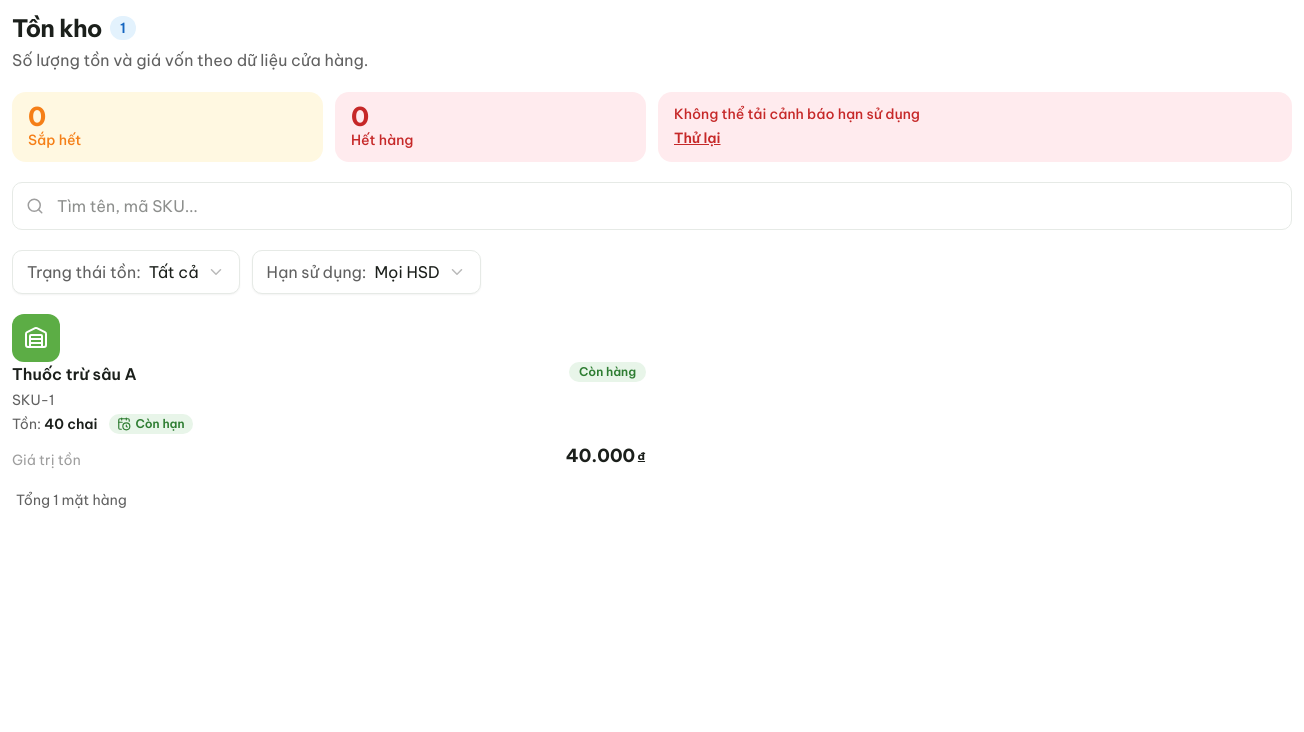
Test: InventoryList expiry tiers › shows a retry action for the expiry tiles when the summary request fails
Check: the message shows "Không thể tải cảnh báo hạn sử dụng", box [674,105,920,123]
Check: the button "Còn dưới 30 ngày" is not shown
Click the button "Thử lại" at (697, 138), box [674,128,720,148]
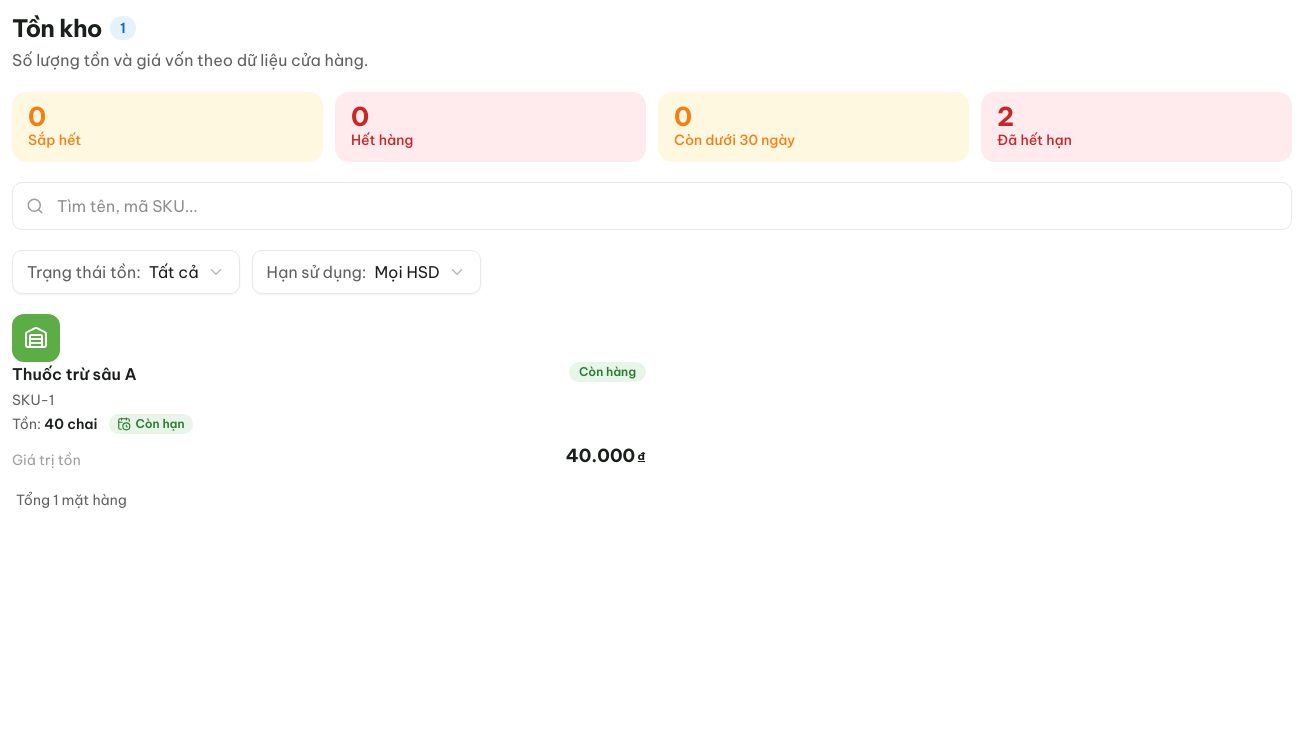
Check: the button "2 Đã hết hạn" is shown, box [981,92,1292,162]
